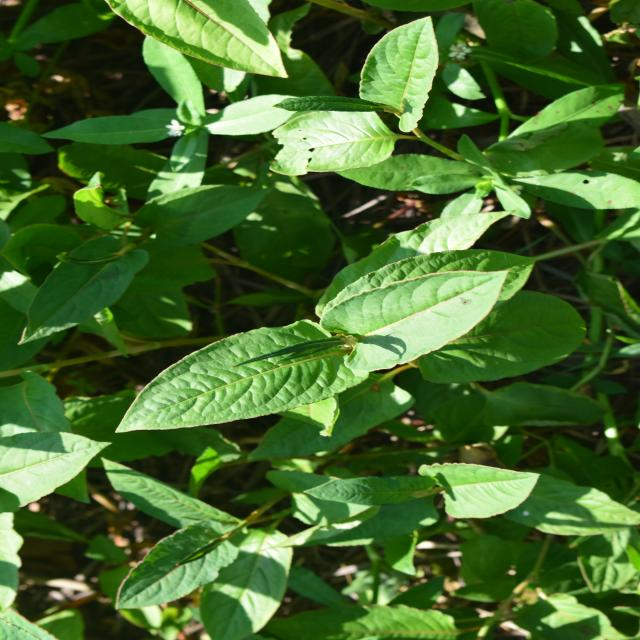Chinese_knotweed: (202, 116, 431, 530)
